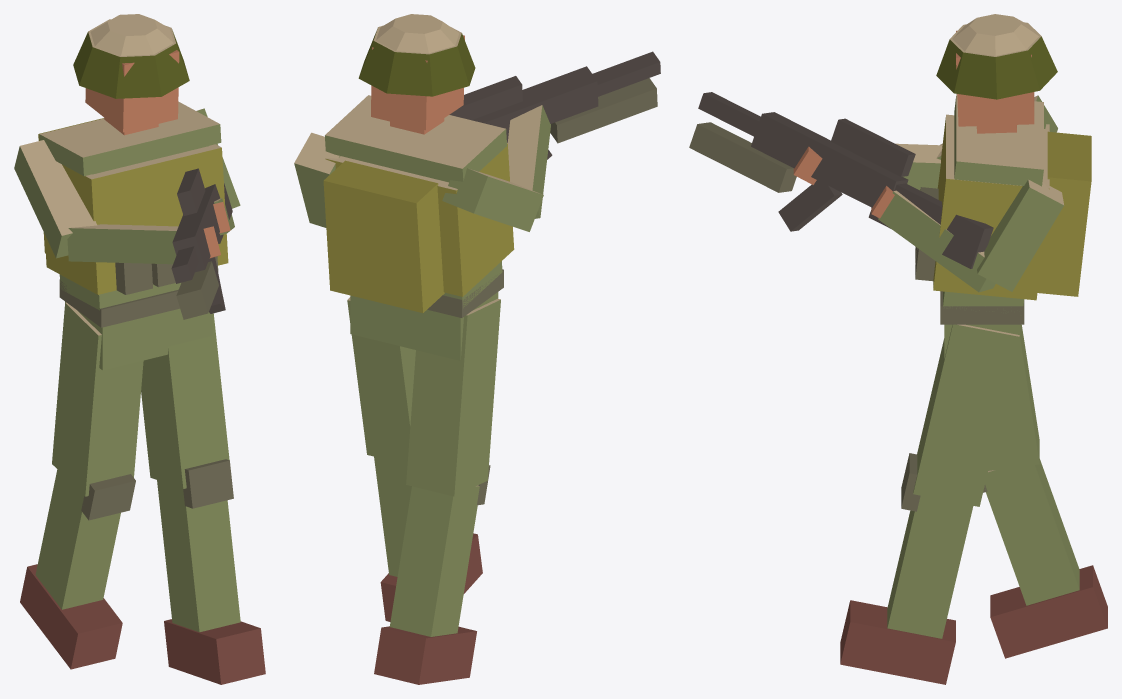
Rendered from SM_SoldadoArmado_v1_G36E_AG36_Apuntando_LOD1.fbx.
3 views of the same model, side by side, from view 1: azimuth 30°, elevation 25°; view 2: azimuth 150°, elevation 25°; view 3: azimuth 270°, elevation 25° (orthographic).
Parts seen in each view (by area): view 1: SM_bloques.soldado_armado_v1_LOD1; view 2: SM_bloques.soldado_armado_v1_LOD1; view 3: SM_bloques.soldado_armado_v1_LOD1.
Part boxes in pixels (bbox=[...]): SM_bloques.soldado_armado_v1_LOD1: bbox=[14, 14, 265, 684]; SM_bloques.soldado_armado_v1_LOD1: bbox=[294, 14, 660, 684]; SM_bloques.soldado_armado_v1_LOD1: bbox=[689, 14, 1107, 684].
Bounding box in the file's own units: 0.5846 × 1.77 × 1.05.
